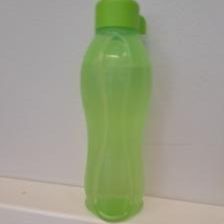bottle: (79, 1, 153, 224)
